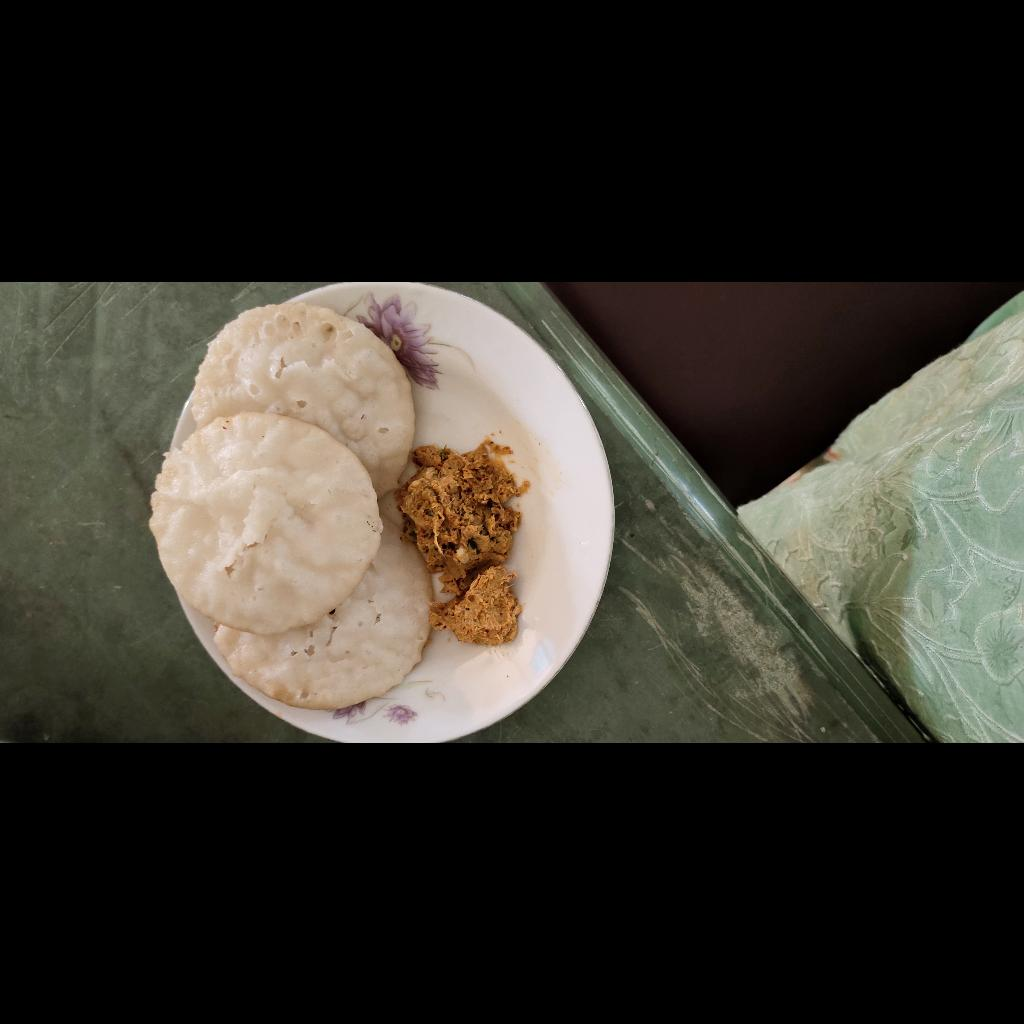ruti: (31, 431, 441, 711)
vorta: (143, 668, 302, 807), (94, 714, 182, 806)
